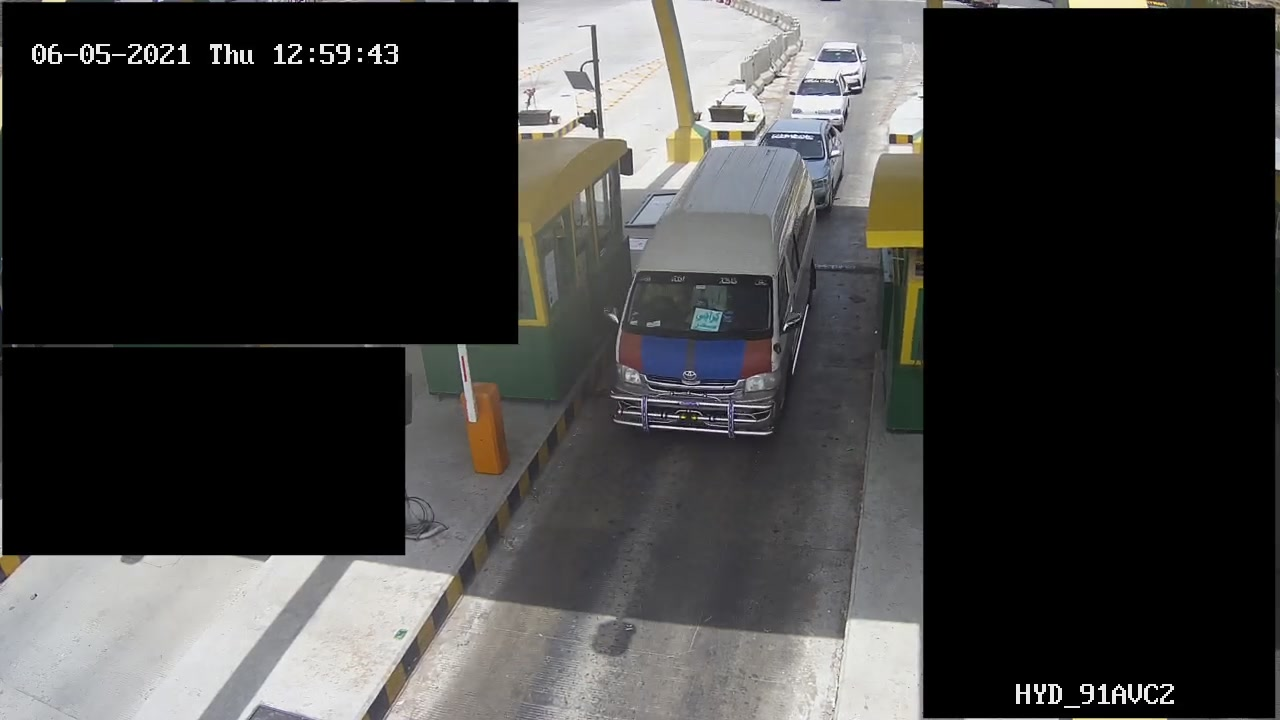F2: (604, 131, 821, 448)
